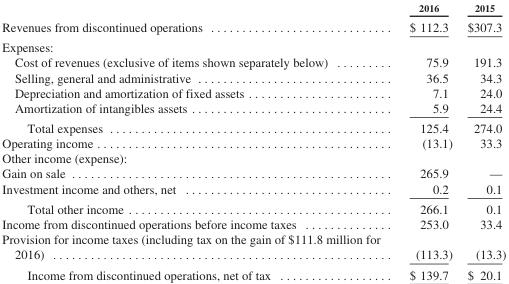table: (1, 1, 505, 281)
table column: (1, 1, 394, 281), (394, 1, 459, 281), (459, 1, 505, 281)
table column header: (1, 1, 505, 16)
table projected row header: (1, 36, 505, 54), (1, 150, 505, 165)
table row: (1, 231, 505, 264), (1, 16, 505, 36), (1, 36, 505, 54), (1, 99, 505, 117), (1, 117, 505, 135), (1, 180, 505, 198), (1, 198, 505, 216), (1, 264, 505, 281), (1, 1, 505, 16), (1, 54, 505, 69), (1, 69, 505, 84), (1, 84, 505, 99), (1, 135, 505, 150), (1, 150, 505, 165), (1, 165, 505, 180), (1, 216, 505, 231)
